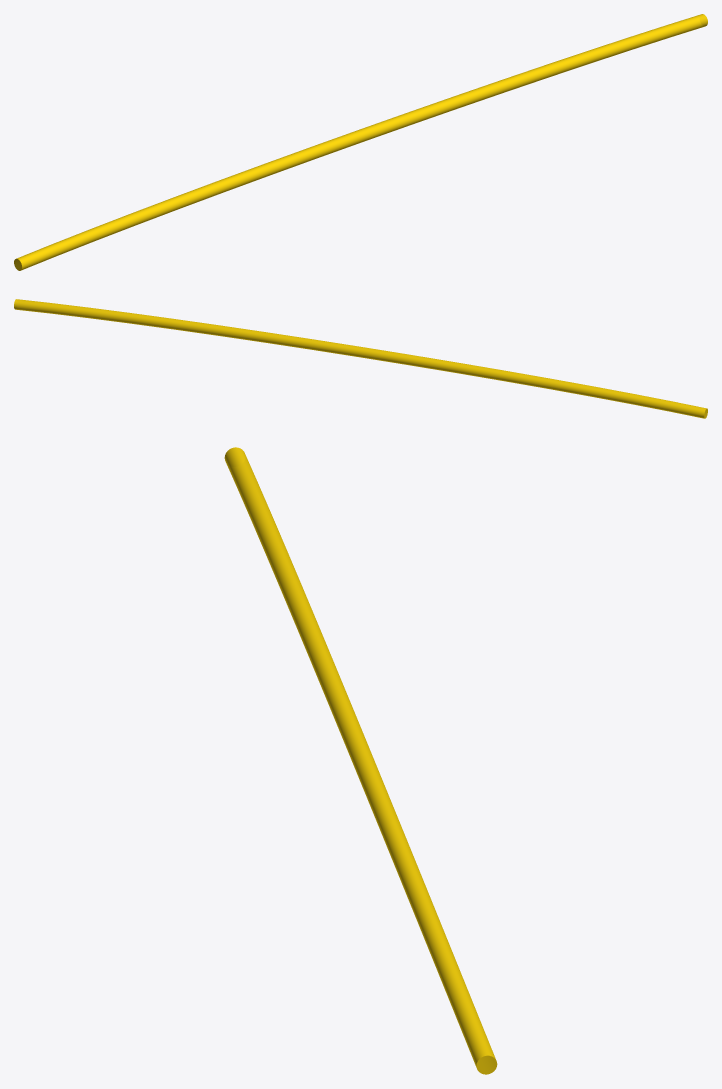
File: Event_421115418_track_179.fbx
3 renders of one model, top to bottom at view 1: azimuth 30°, elevation 25°; view 2: azimuth 150°, elevation 25°; view 3: azimuth 270°, elevation 25°, orthographic. The views are drawn at different scales.
Visible parts, largest first — view 1: Model; view 2: Model; view 3: Model.
Part boxes in pixels (x1,y1,x2,y2): Model: (14, 14, 707, 270); Model: (14, 299, 707, 418); Model: (224, 447, 497, 1074).
Size of the model in its own units: 2.74 by 0.0708 by 0.5139.
